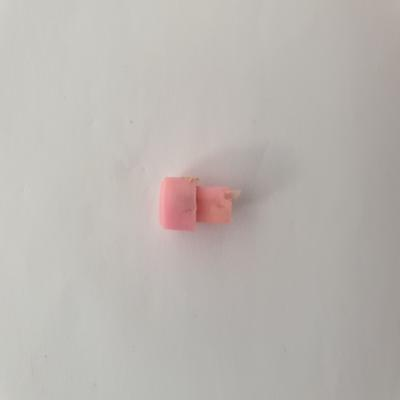plastic: (155, 169, 267, 234)
